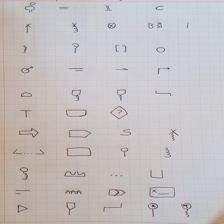aptamer: (25, 2, 36, 13)
assembly-scar: (58, 3, 69, 9)
blunt-restriction-site: (102, 4, 113, 12)
cds: (68, 129, 91, 138)
cds-arrow: (19, 127, 38, 138)
chromosomal-locus: (119, 128, 131, 136), (155, 5, 166, 11)
composite: (12, 148, 45, 156)
dna-stability-element: (66, 202, 76, 215)
engineered-region: (66, 147, 92, 157)
five-prime-overhang: (68, 66, 83, 73)
five-prime-sticky-restriction-site: (154, 89, 172, 97)
halfround-rectangle: (65, 109, 87, 118)
inert-dna-spacer: (106, 23, 116, 30)
intron: (148, 21, 162, 30)
location-dna: (119, 147, 129, 157)
location-dna-no-top: (185, 21, 190, 30)
location-protein: (19, 167, 29, 182)
location-protein-no-top: (163, 147, 172, 159)
location-rna: (72, 43, 79, 55)
location-rna-no-top: (23, 44, 28, 55)
ncrna: (65, 170, 86, 178)
no-glyph-assigned: (114, 44, 127, 53)
nuclease-site: (25, 23, 31, 34)
omitted-detail: (109, 174, 124, 177)
operator: (149, 169, 163, 178)
origin-of-replication: (156, 46, 164, 54)
origin-of-transfer: (21, 65, 33, 74)
polyA: (65, 190, 82, 195)
polypeptide-region: (108, 189, 126, 197)
primer-binding-site: (115, 66, 128, 72)
promoter: (157, 67, 170, 74)
protease-site: (71, 22, 79, 34)
protein-stability-element: (71, 89, 82, 102)
replacement-glyph: (110, 106, 128, 119)
ribonuclease-site: (169, 127, 179, 142)
ribosome-entry-site: (19, 92, 32, 98)
rna-stability-element: (117, 88, 127, 103)
signature: (149, 187, 176, 199)
specific-recombination-site: (17, 205, 28, 213)
terminator: (19, 109, 33, 118)
three-prime-overhang: (16, 189, 30, 195)
three-prime-sticky-restriction-site: (103, 202, 123, 213)
transcription-end: (148, 203, 159, 217)
translation-end: (180, 202, 192, 218)
